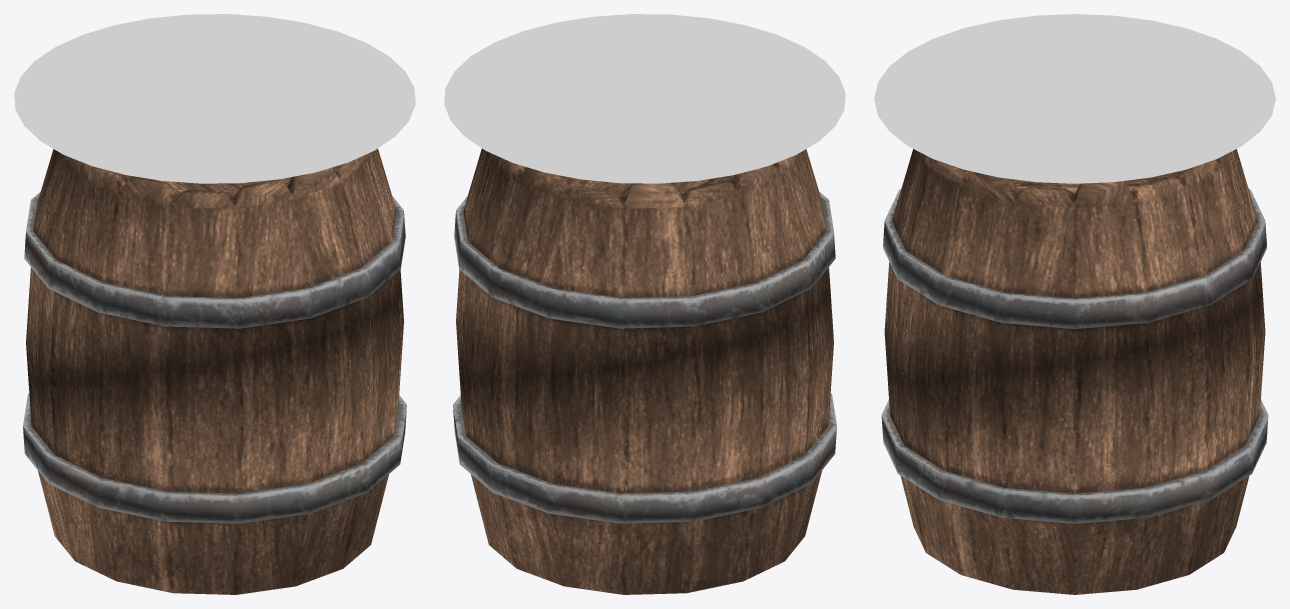
The model's file is assets.glb.
3 renders of one model, left to right at view 1: azimuth 30°, elevation 25°; view 2: azimuth 150°, elevation 25°; view 3: azimuth 270°, elevation 25°, orthographic.
Visible parts, largest first — view 1: barrel, barrel_col; view 2: barrel, barrel_col; view 3: barrel, barrel_col.
Part boxes in pixels (box(x1,y1,x2,y2)): barrel: box(23, 148, 406, 594); barrel_col: box(14, 14, 415, 183); barrel: box(453, 148, 836, 594); barrel_col: box(444, 14, 845, 183); barrel: box(881, 149, 1268, 594); barrel_col: box(874, 14, 1275, 183).
Size of the model in its own units: 0.8513 by 1 by 0.8513.
Materials: 1 (1 with a texture image).
